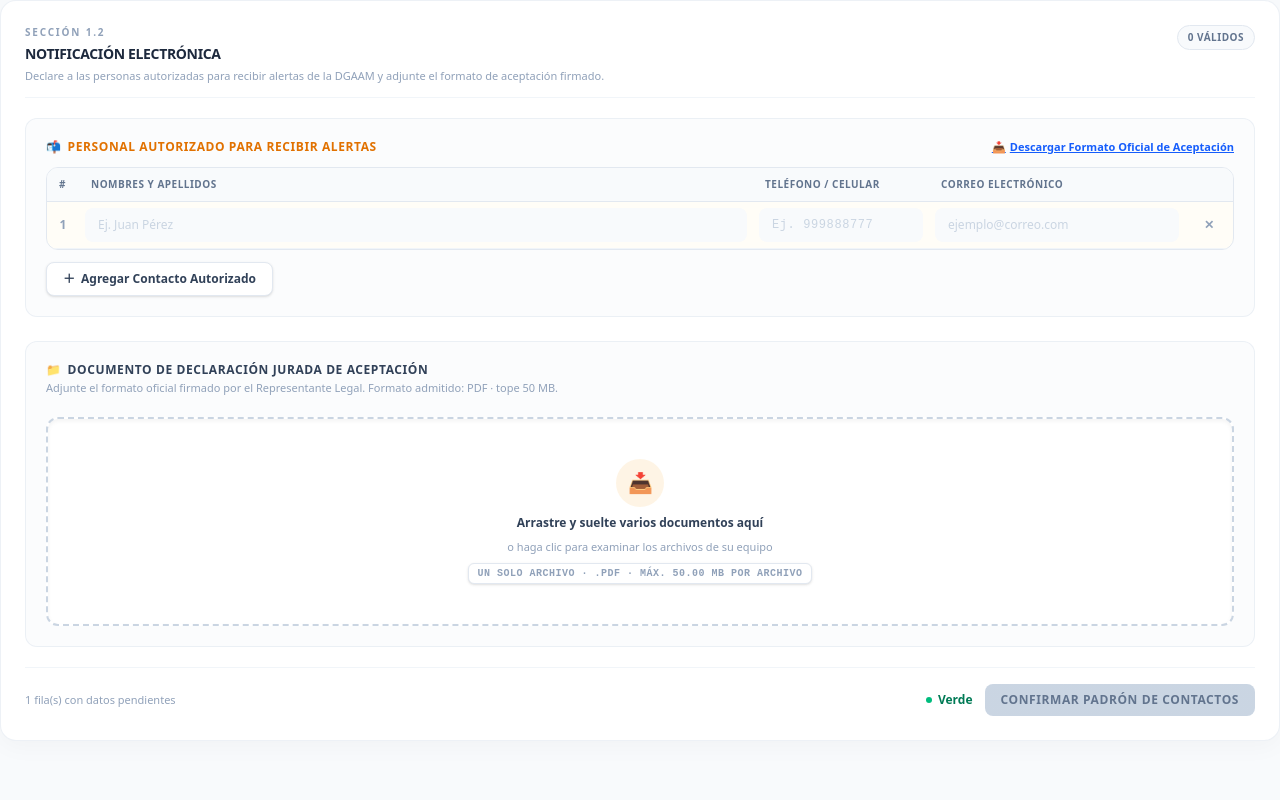
Scenario: NotificacionComponent › Grilla dinámica de contactos › muestra el estado vacío cuando se quitan todas las filas
What coordinates should you click on to do the following:
click the button with class "boton-quitar"
I would click on:
 (1209, 225)
Its box is [1195,211,1223,239].
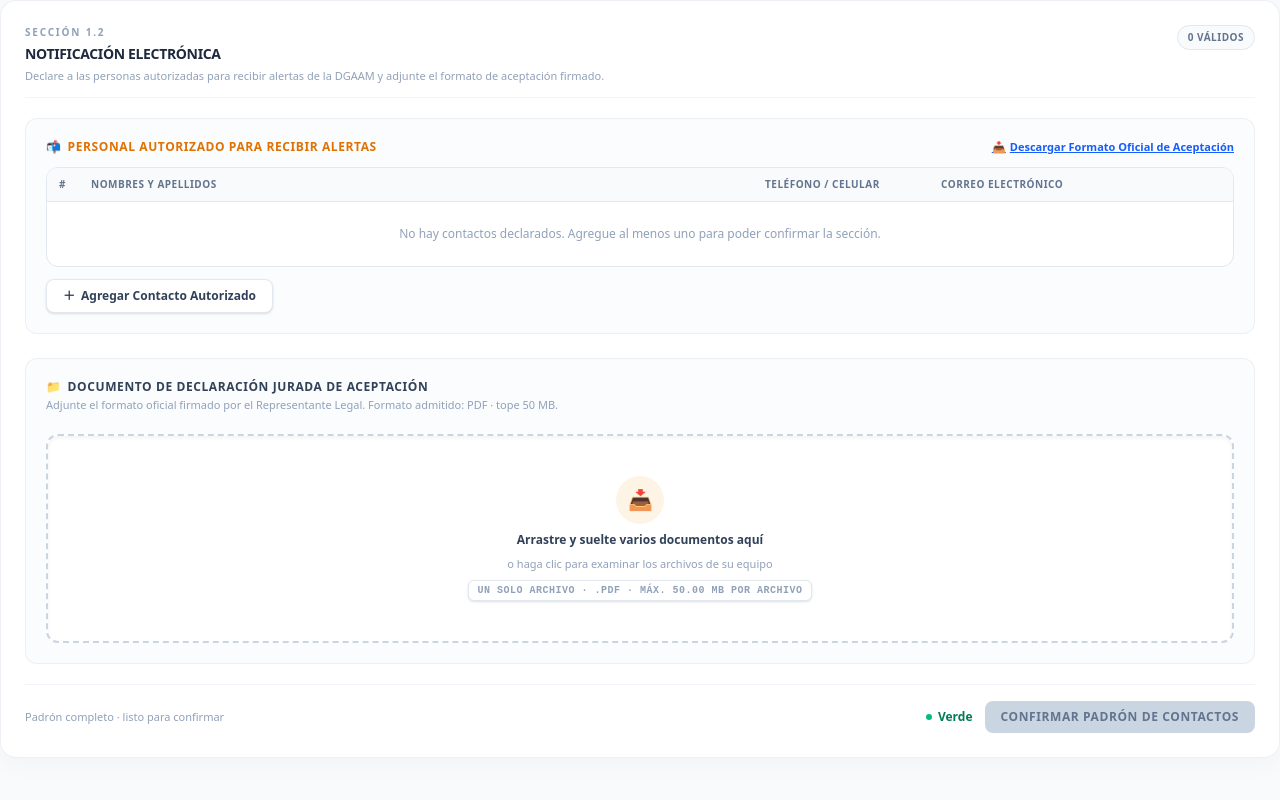
expect no rows with class "fila-contacto" are shown: met
expect the text "No hay contactos declarados" is shown: met, box [399,225,881,242]
